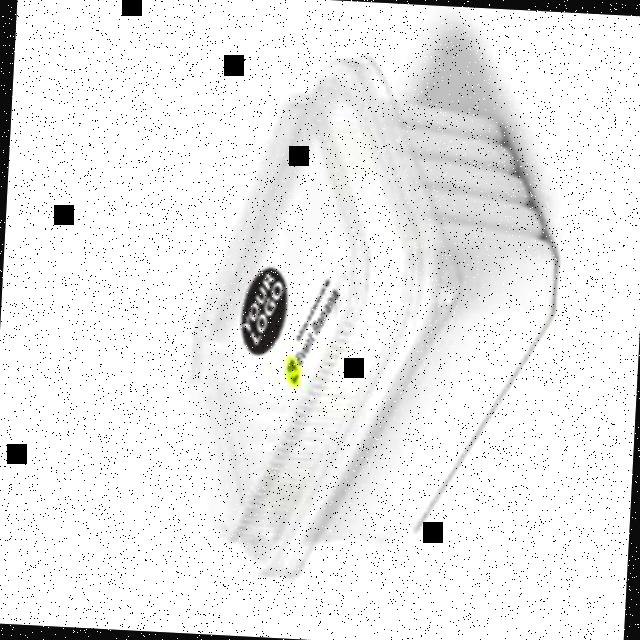plastic_box: (174, 48, 568, 593)
